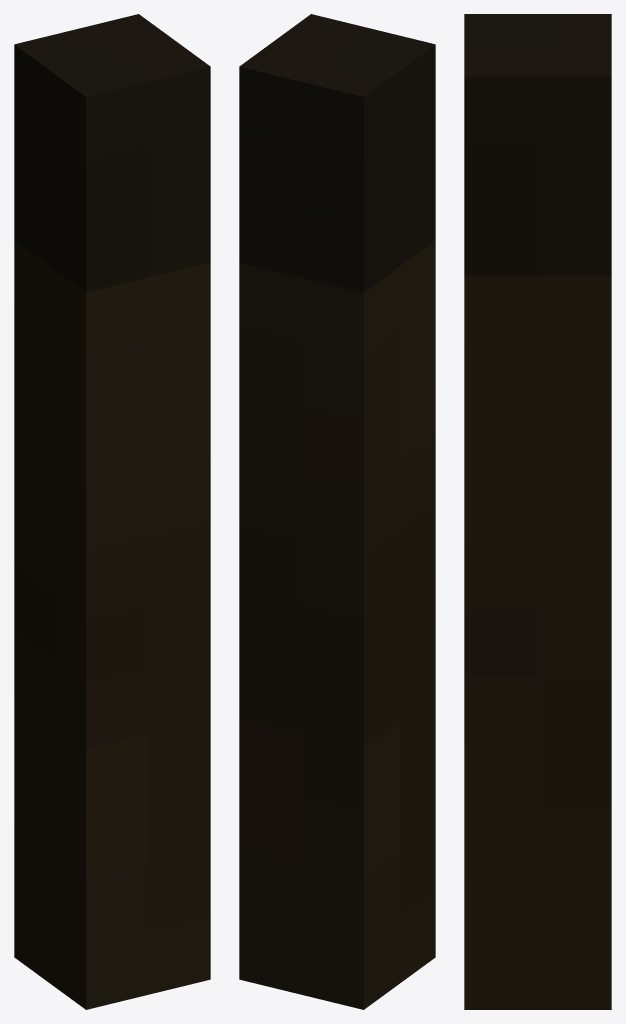
File: Torch.gltf
3 views of the same model, side by side, from view 1: azimuth 30°, elevation 25°; view 2: azimuth 150°, elevation 25°; view 3: azimuth 270°, elevation 25° (orthographic). The views are drawn at different scales.
Parts seen in each view (by area): view 1: cube (×2); view 2: cube (×2); view 3: cube (×2).
Part boxes in pixels (x1=…): cube (×2): x1=14, y1=14, x2=210, y2=1009; cube (×2): x1=239, y1=14, x2=435, y2=1009; cube (×2): x1=464, y1=14, x2=611, y2=1009.
Bounding box in the file's own units: 0.125 × 0.875 × 0.125.
Materials: 2 (2 with a texture image).
